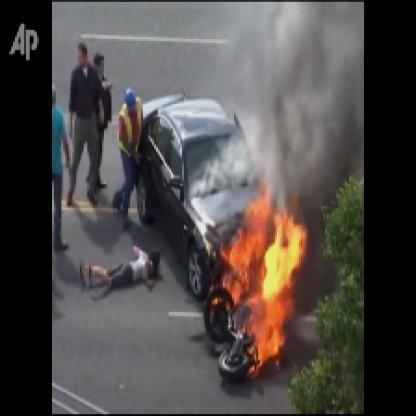Fire: (206, 158, 308, 377)
Smoke: (247, 2, 362, 173)
